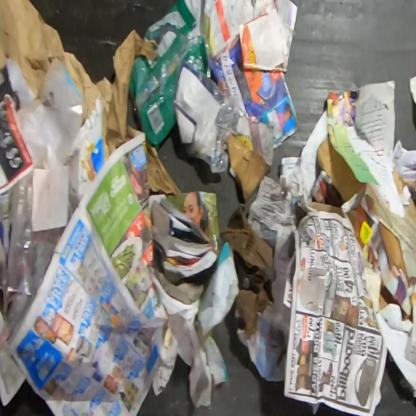cardboard: (220, 203, 275, 336), (317, 133, 369, 203), (225, 132, 273, 202), (378, 219, 415, 289), (391, 166, 415, 229)
soft_plastic: (7, 64, 83, 343), (128, 0, 212, 152), (174, 57, 242, 176)
